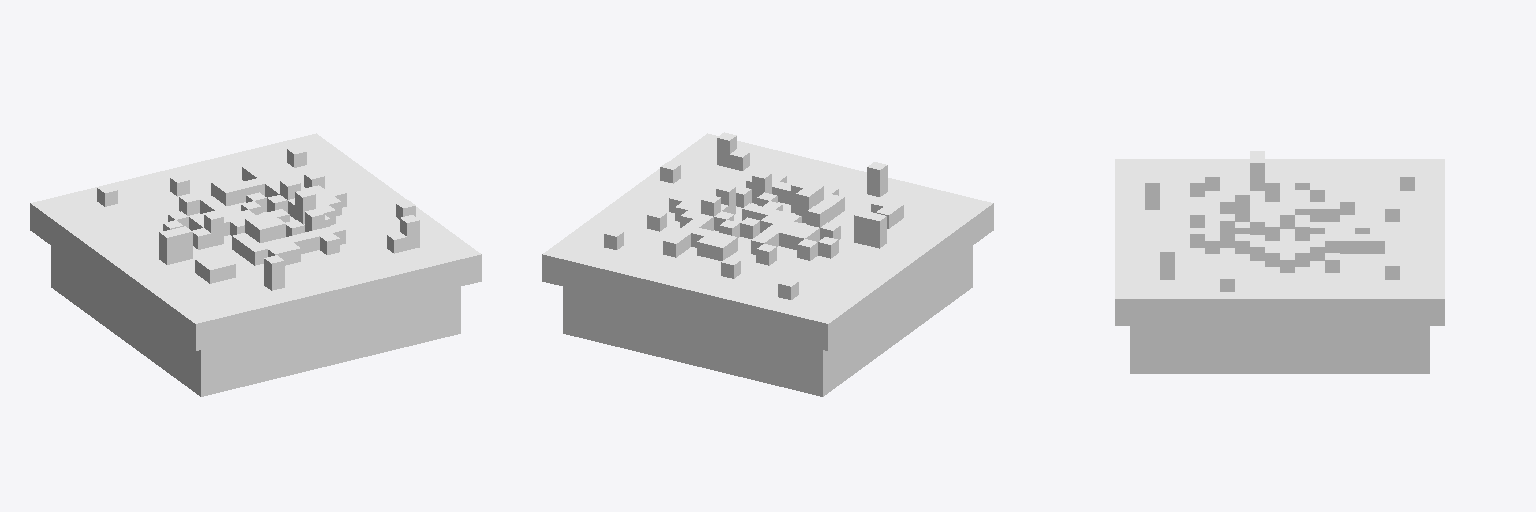
Rendered from loo01.obj.
3 renders of one model, left to right at view 1: azimuth 30°, elevation 25°; view 2: azimuth 150°, elevation 25°; view 3: azimuth 270°, elevation 25°, orthographic.
Visible parts, largest first — view 1: loo01; view 2: loo01; view 3: loo01.
Boxes of the visible parts, x1=… form: loo01: x1=30, y1=133, x2=481, y2=396; loo01: x1=542, y1=132, x2=993, y2=396; loo01: x1=1115, y1=151, x2=1444, y2=373.
Size of the model in its own units: 22 by 8 by 22.